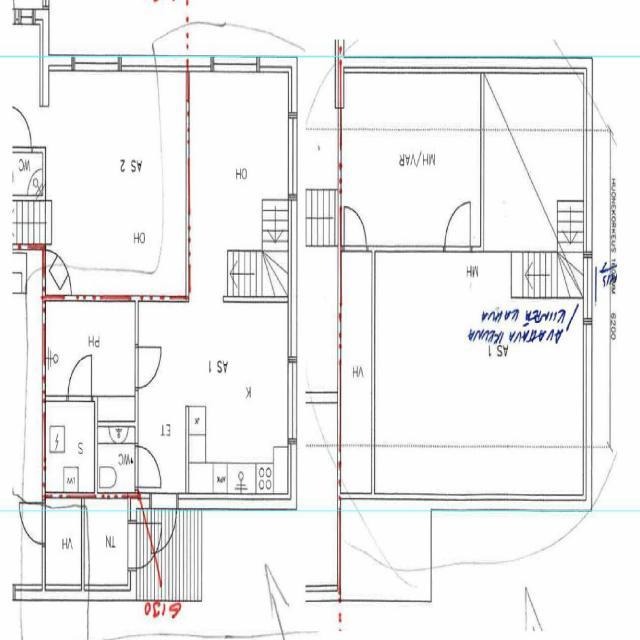door: (128, 522, 162, 568), (151, 492, 176, 553), (446, 202, 470, 252), (135, 446, 162, 488), (68, 355, 91, 401), (135, 348, 161, 388), (344, 206, 366, 252)
